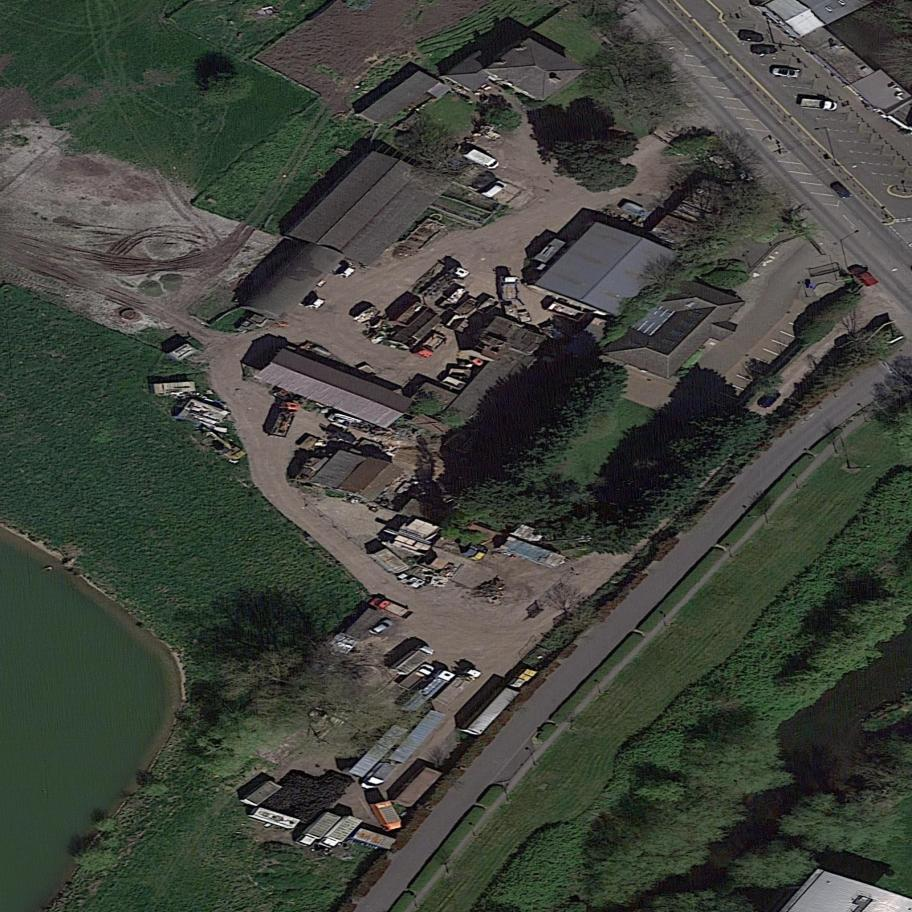large-vehicle: (396, 662, 458, 721), (427, 659, 485, 714), (292, 804, 344, 855), (417, 261, 473, 308), (314, 806, 365, 857), (387, 638, 437, 682), (357, 753, 400, 797), (395, 659, 439, 698), (267, 396, 302, 444), (369, 795, 405, 839), (410, 325, 449, 365), (367, 595, 416, 623), (459, 143, 503, 174), (499, 276, 521, 302), (800, 97, 837, 111)
small-vehicle: (847, 257, 883, 291), (754, 384, 783, 414), (479, 176, 509, 203), (828, 178, 856, 204), (368, 616, 395, 639), (772, 67, 800, 78), (751, 44, 779, 55), (738, 32, 767, 42)
